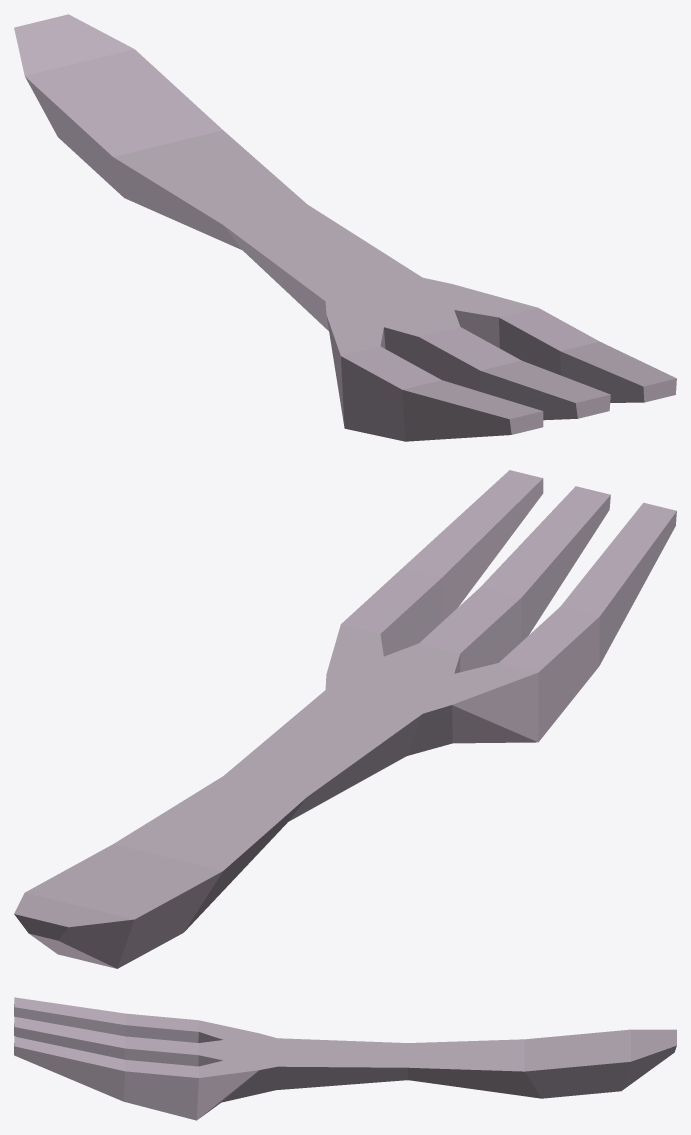
File: SM_Item_Cutlery_Fork_01.fbx
The picture shows the model from 3 angles, top to bottom: view 1: azimuth 30°, elevation 25°; view 2: azimuth 150°, elevation 25°; view 3: azimuth 270°, elevation 25°; orthographic projection. The views are drawn at different scales.
Visible parts, largest first — view 1: SM_Item_Cutlery_Fork_01; view 2: SM_Item_Cutlery_Fork_01; view 3: SM_Item_Cutlery_Fork_01.
Part boxes in pixels (x1,y1,x2,y2): SM_Item_Cutlery_Fork_01: [14, 14, 676, 441]; SM_Item_Cutlery_Fork_01: [14, 470, 676, 968]; SM_Item_Cutlery_Fork_01: [14, 997, 676, 1120].
Size of the model in its own units: 0.0545 by 0.0314 by 0.264.
1 material, 1 textured.
